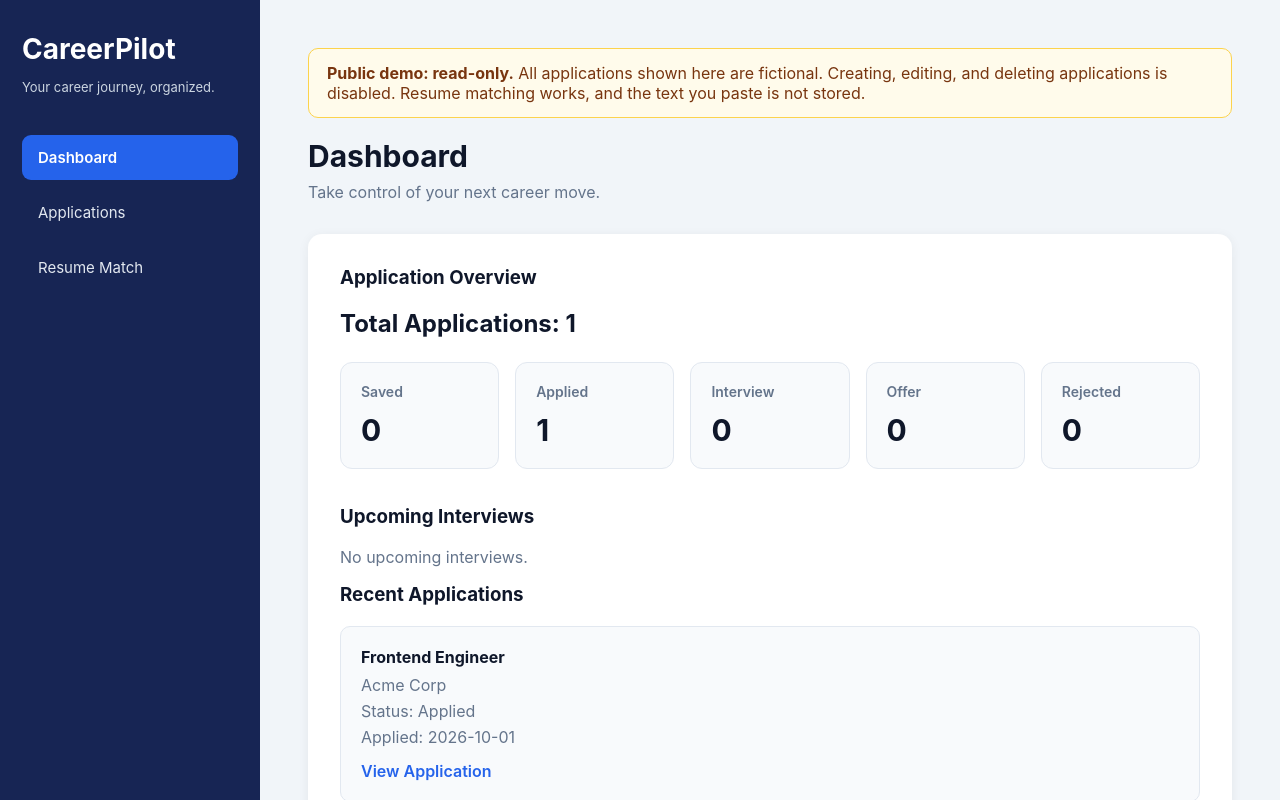
Test: App Resume Match privacy › does not request saved resumes in public-demo mode
This screenshot has width=1280, height=800.
expect the text "Public demo: read-only." is shown: met, box [327, 63, 514, 83]
Click the button "Resume Match" at (130, 268), box [22, 245, 238, 290]
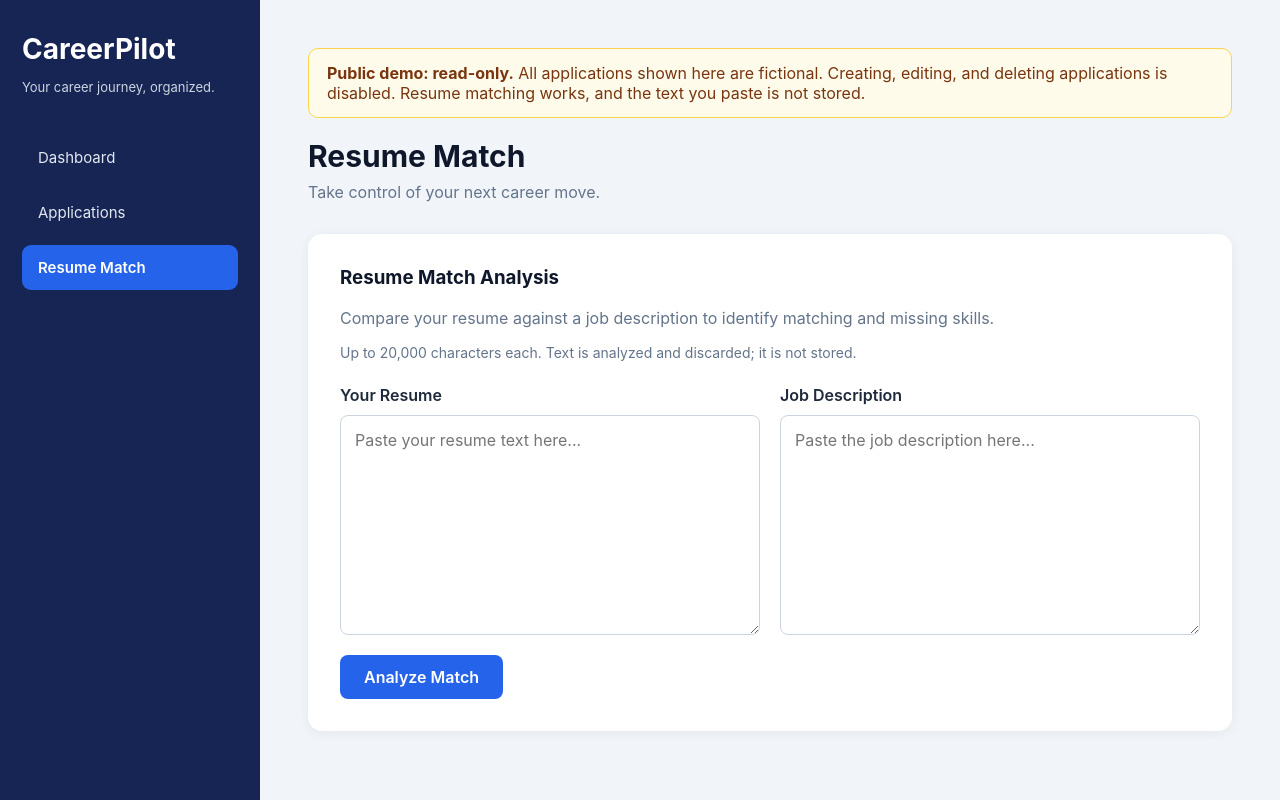
expect the text box labelled "Your Resume" is shown: met, box [340, 415, 760, 635]
